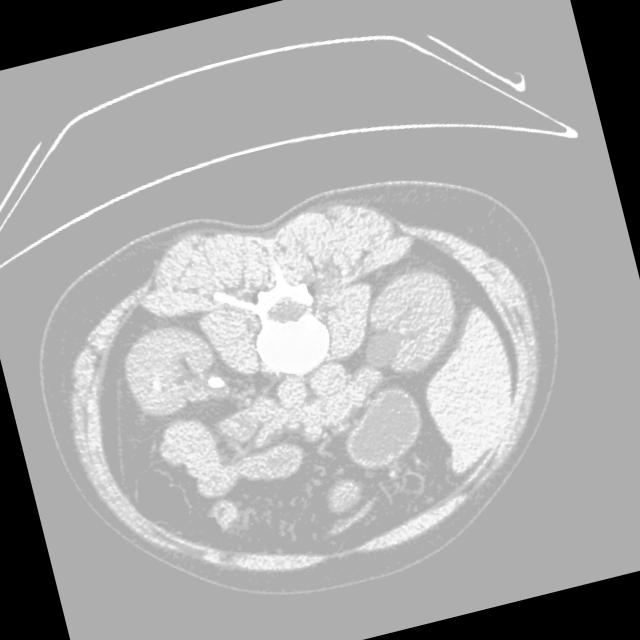STONE: (86, 358, 434, 580)
